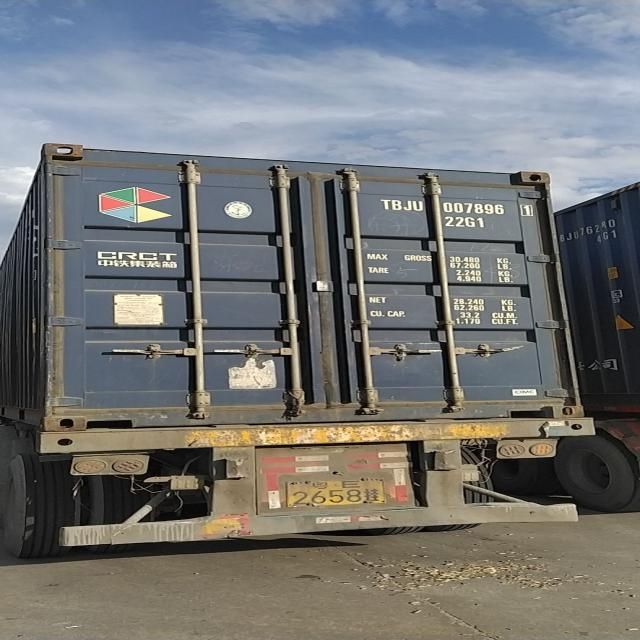ISO: (449, 217, 486, 233)
container_number: (384, 199, 542, 216)
